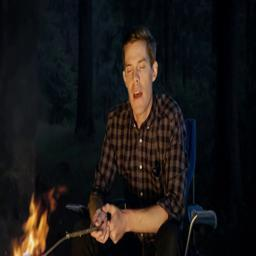fire: (10, 195, 49, 256)
